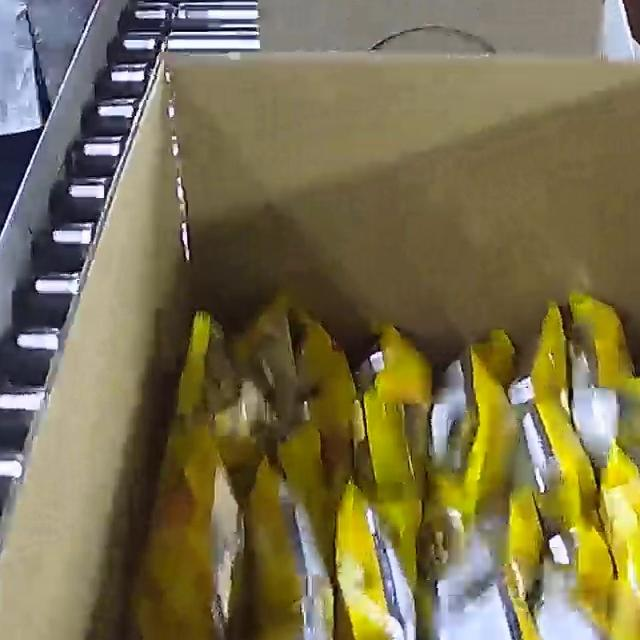salted: (110, 285, 640, 640)
